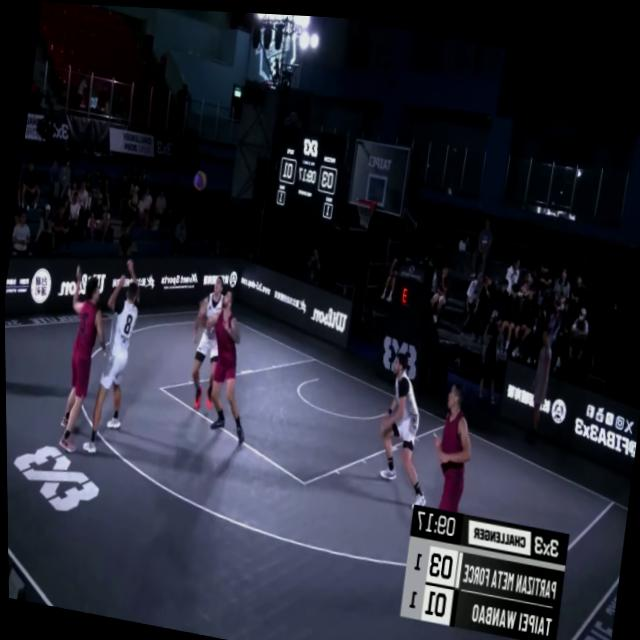ball: (188, 165, 209, 194)
hoop: (352, 190, 378, 230)
player: (83, 254, 148, 459), (49, 258, 113, 457), (368, 345, 444, 505), (196, 283, 262, 445), (423, 377, 480, 512), (181, 270, 229, 413)
